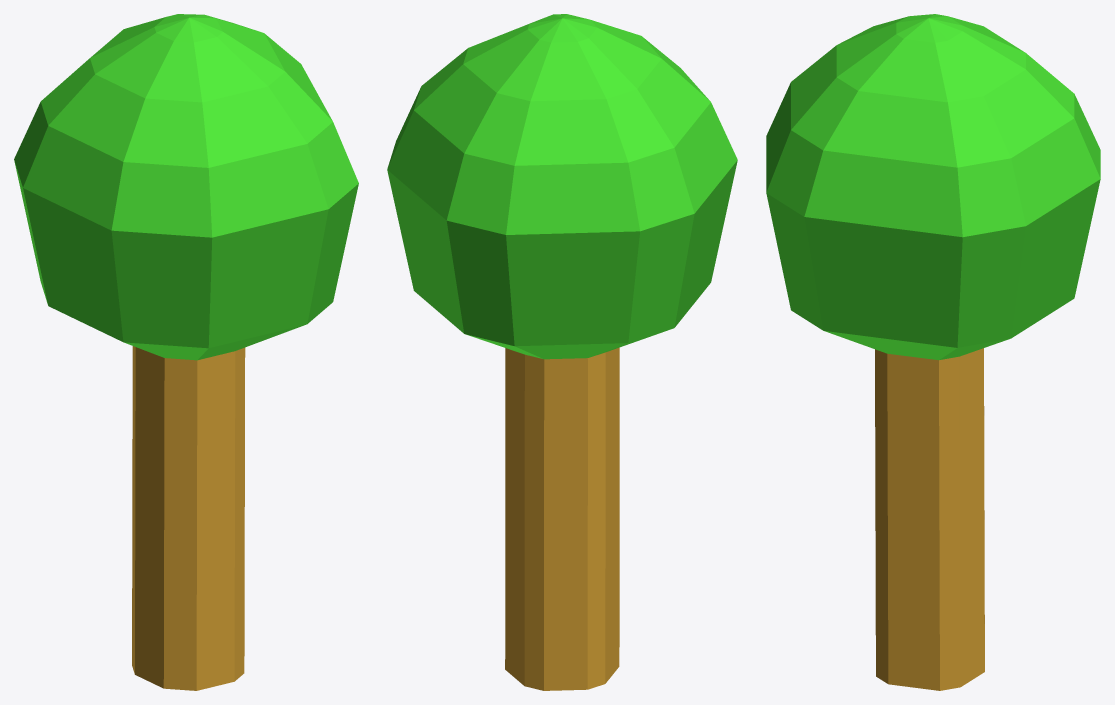
Rendered from Tree.fbx.
3 renders of one model, left to right at view 1: azimuth 30°, elevation 25°; view 2: azimuth 150°, elevation 25°; view 3: azimuth 270°, elevation 25°, orthographic.
Parts seen in each view (by area): view 1: Sphere; view 2: Sphere; view 3: Sphere.
Boxes of the visible parts, x1=… form: Sphere: x1=14, y1=14, x2=358, y2=690; Sphere: x1=387, y1=14, x2=737, y2=690; Sphere: x1=766, y1=14, x2=1100, y2=690.
Bounding box in the file's own units: 192 × 403 × 187.
